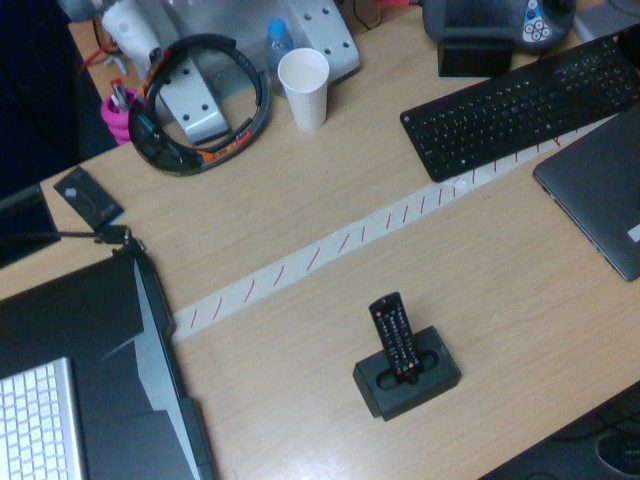remote: (369, 292, 424, 383)
